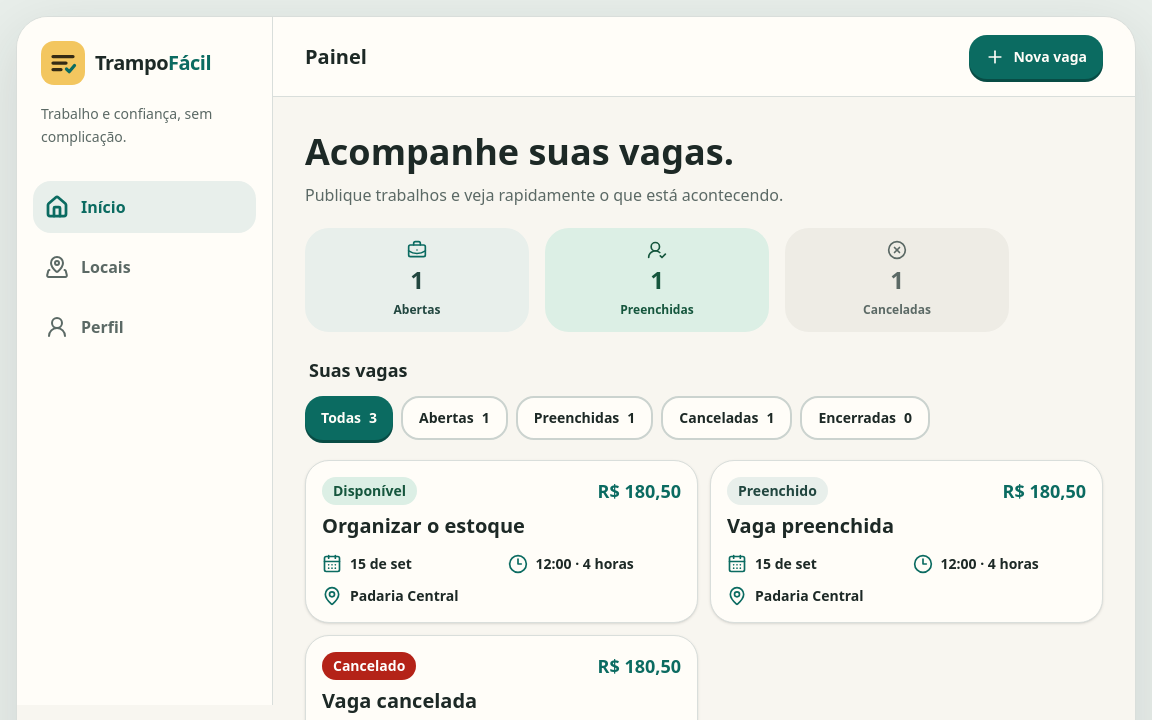
Scenario: contractor jobs flow › shows indicators and filters only jobs that belong to the contractor
Click the button "Canceladas 1" at (727, 418), box x1=661 y1=396 x2=792 y2=440
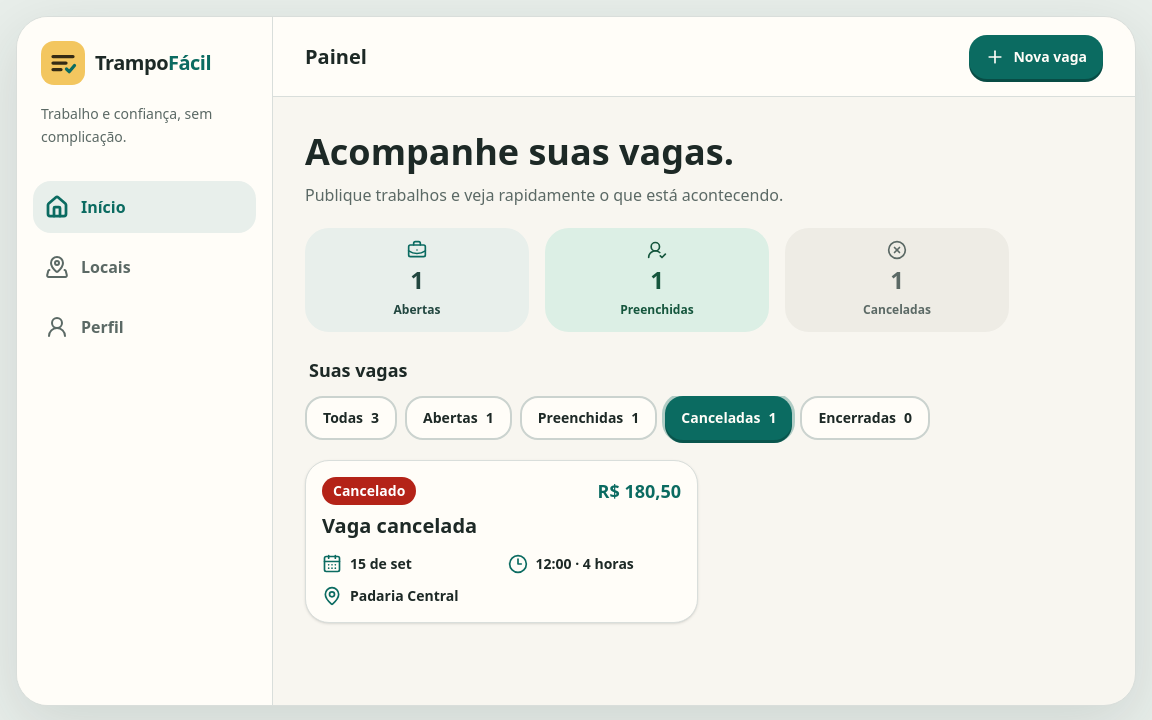
Expected: the heading "Vaga cancelada" is shown, x1=322 y1=513 x2=477 y2=538
Now the link "Organizar o estoque" is gone
Now the link "Vaga preenchida" is gone
